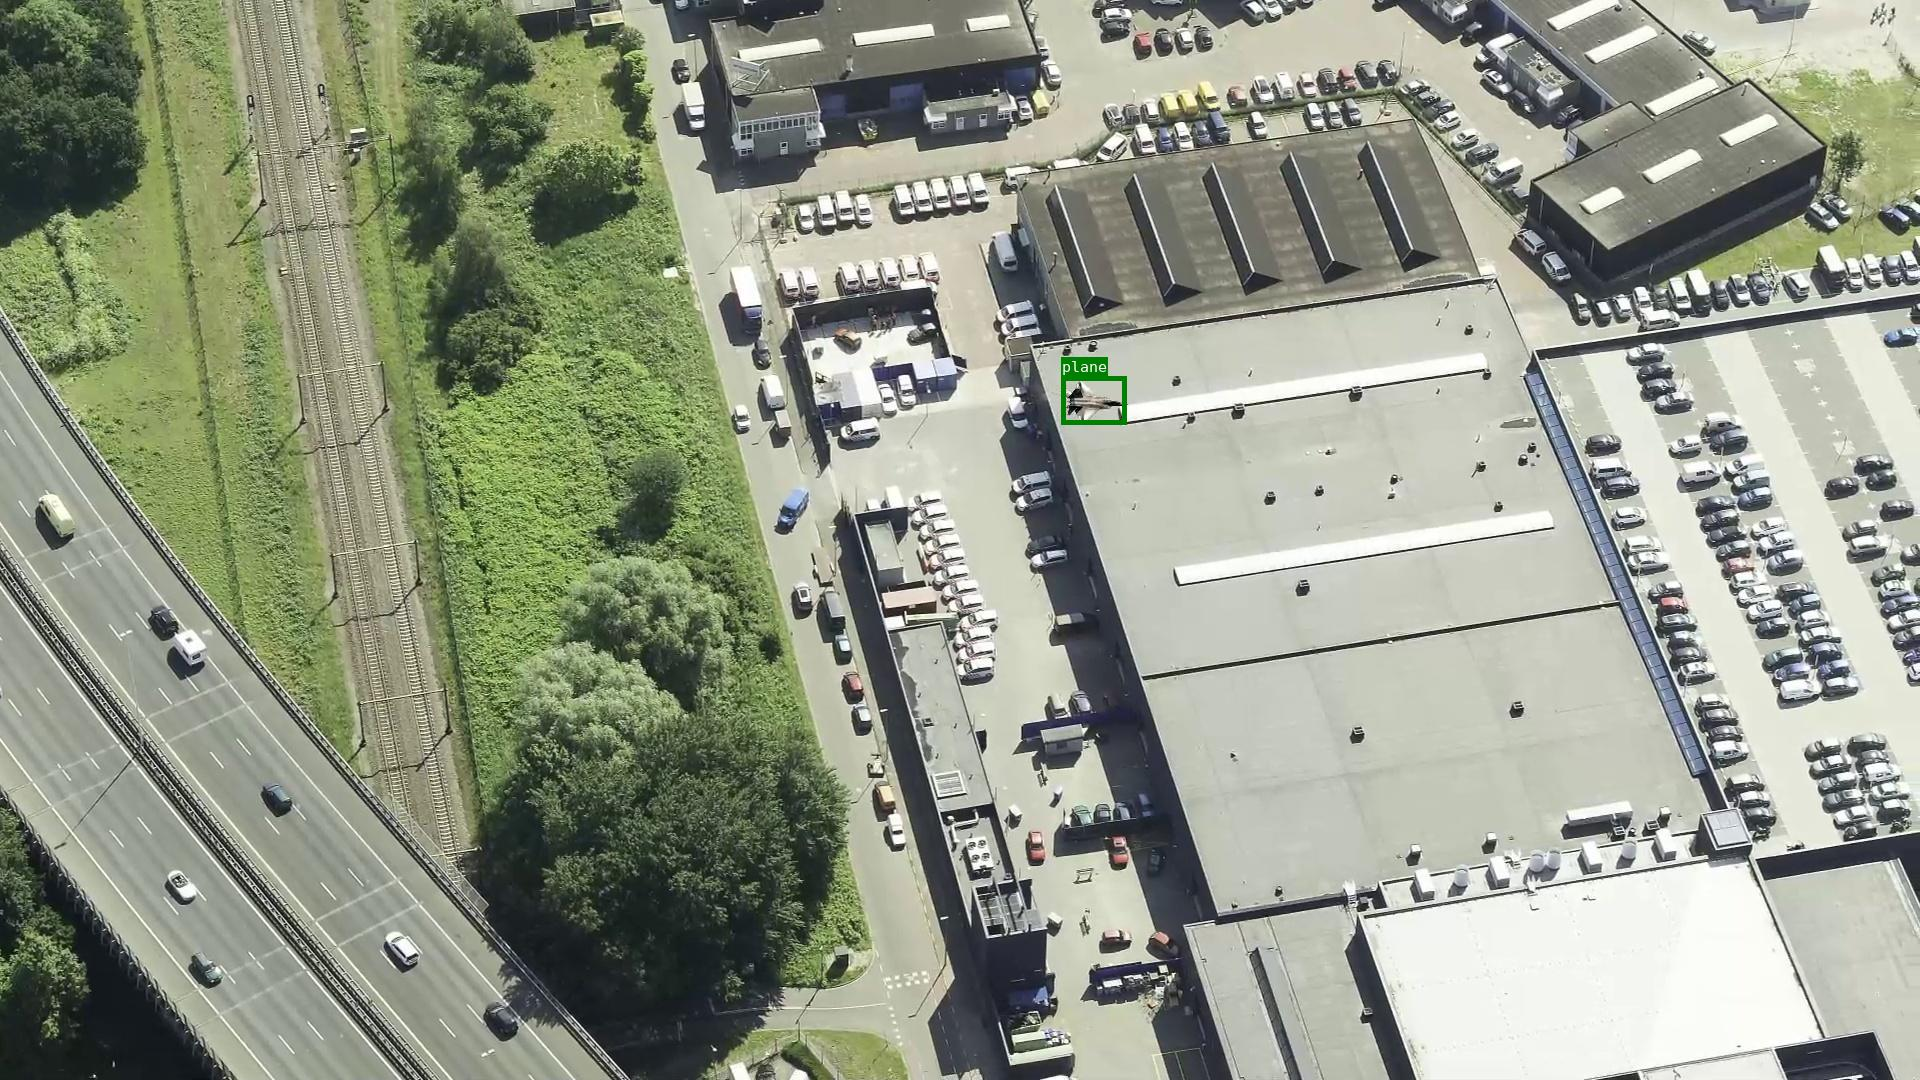plane: (1062, 376, 1126, 425)
